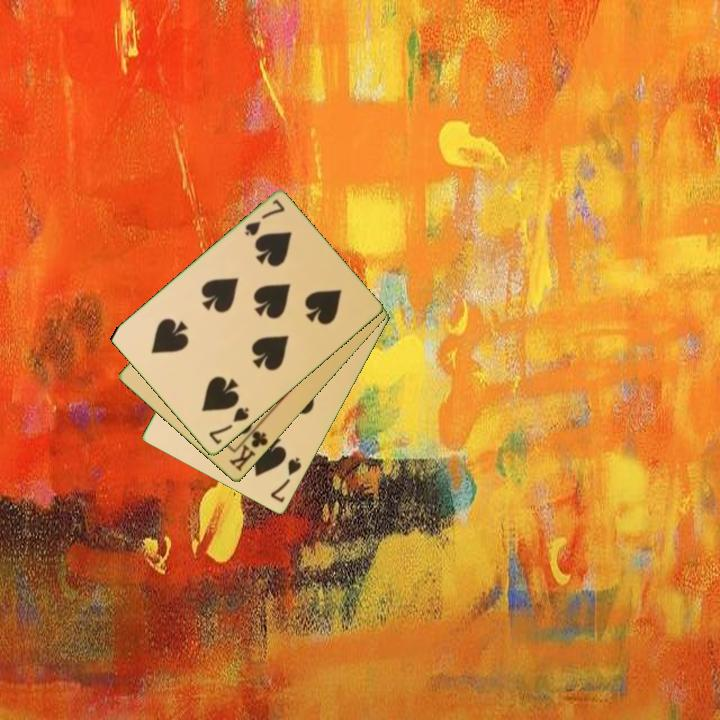7s: (205, 404, 252, 448), (241, 196, 288, 239), (267, 454, 305, 506)
Kc: (225, 422, 271, 475)
